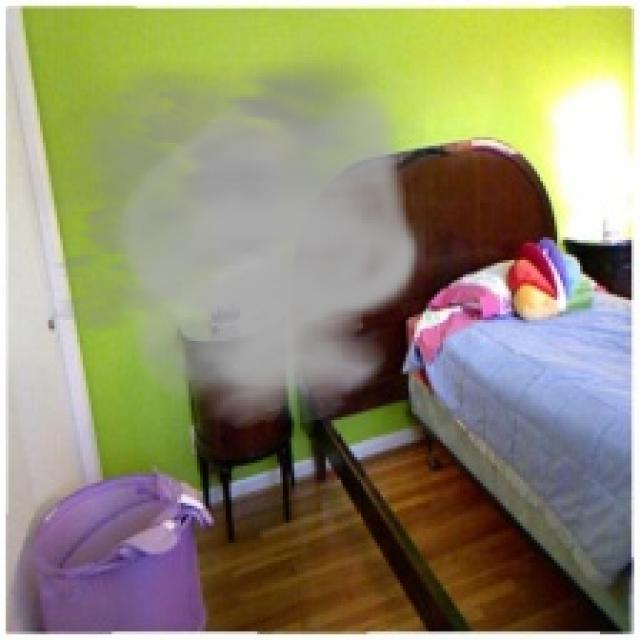smoke: (8, 40, 426, 429)
